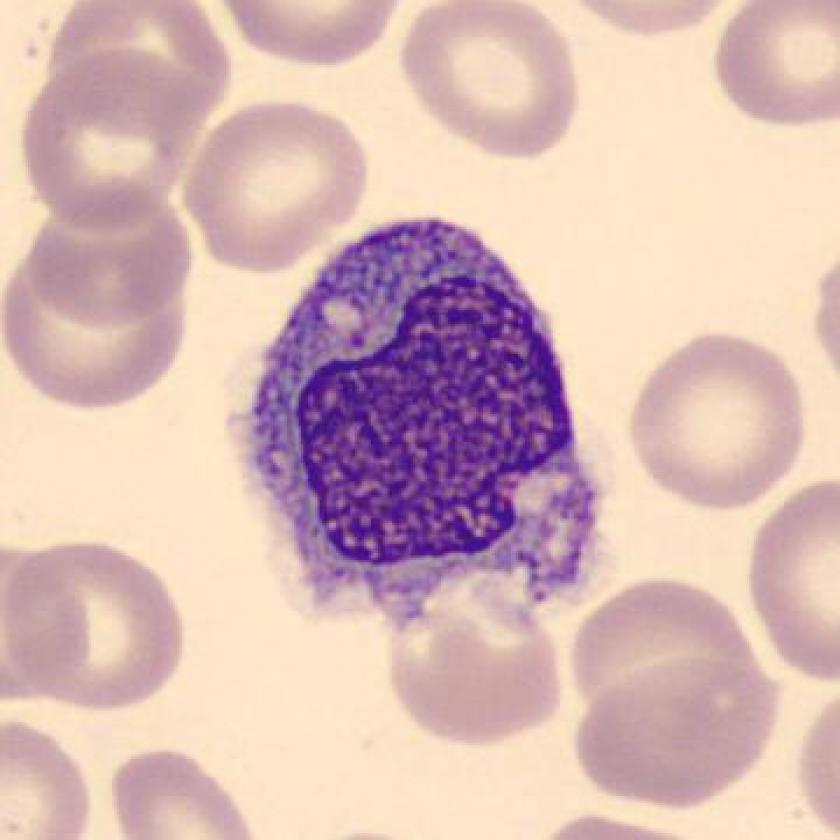monocyte: (204, 188, 631, 663)
